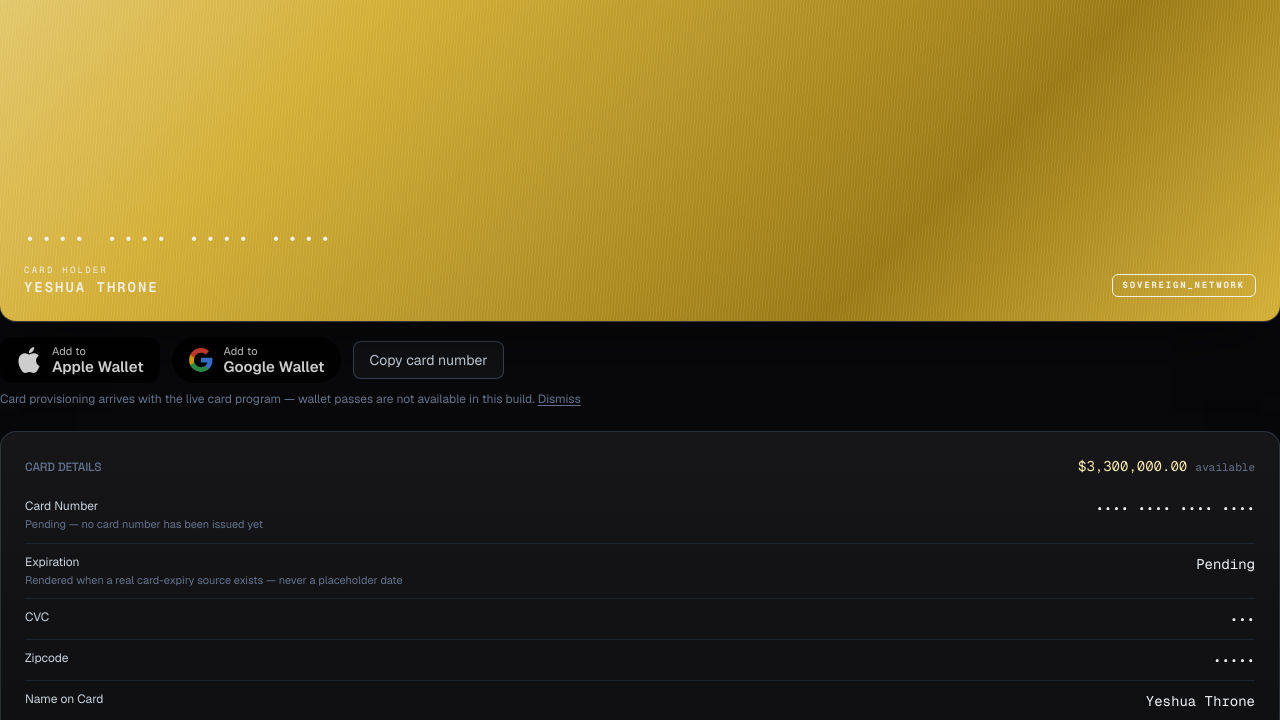
Test: GoldNote actions — honest interactivity › opens the provisioning dialog on badge click — wallet name, verbatim note, focus on close
(page scrolled)
Click the button with test id "goldnote-wallet-apple". click: point(80, 360)
box: [0, 337, 160, 383]
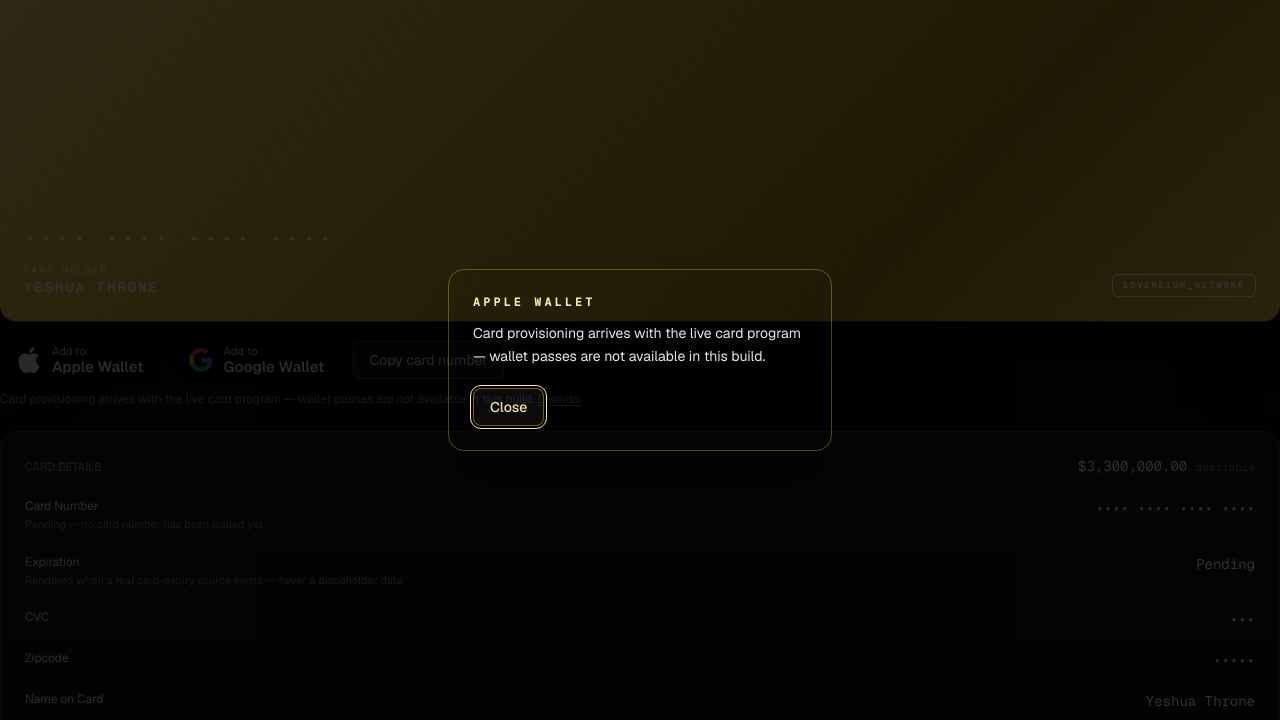
Check: the dialog is shown, box [448, 269, 832, 451]
Check: the heading with id "goldnote-wallet-dialog-title" reads "Apple Wallet", box [473, 294, 595, 310]
Check: the dialog shows "Card provisioning arrives with the live card program — wallet passes are not available in this build.", box [473, 324, 801, 365]
